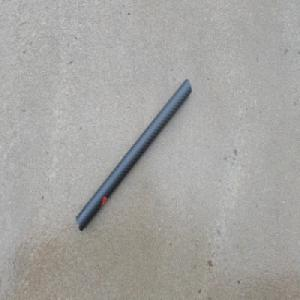LuggagePart: (73, 75, 192, 235)
